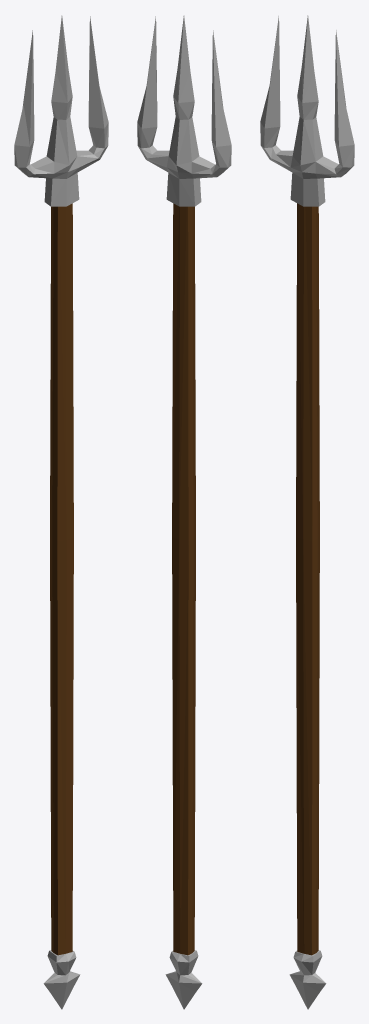
File: scene_qfLxugvFfk.glb
The picture shows the model from 3 angles, left to right: view 1: azimuth 30°, elevation 25°; view 2: azimuth 150°, elevation 25°; view 3: azimuth 330°, elevation 25°; orthographic projection.
Parts seen in each view (by area): view 1: Trident_Trident_Cube.005; view 2: Trident_Trident_Cube.005; view 3: Trident_Trident_Cube.005.
Boxes of the visible parts, x1,y1,x2,y2 form: Trident_Trident_Cube.005: (14,15,108,1009); Trident_Trident_Cube.005: (137,15,231,1009); Trident_Trident_Cube.005: (260,15,354,1009).
Bounding box in the file's own units: 1.06 × 10.73 × 0.2932.
Materials: 1 (1 with a texture image).
